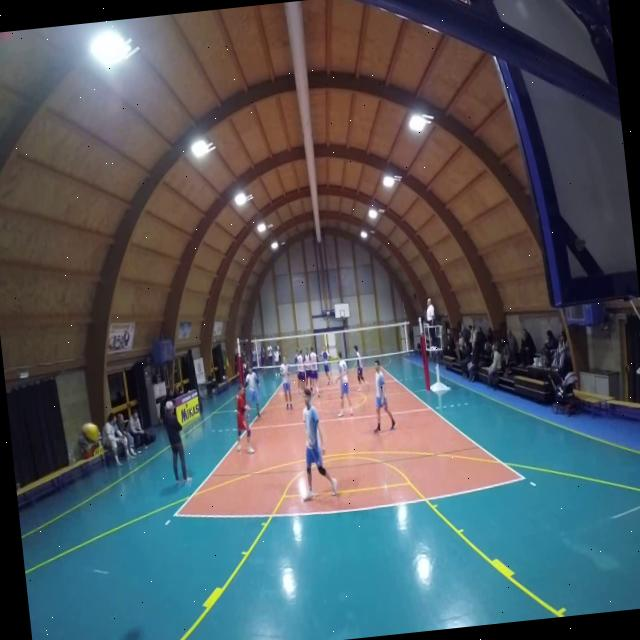Volleyball: (76, 418, 102, 456)
